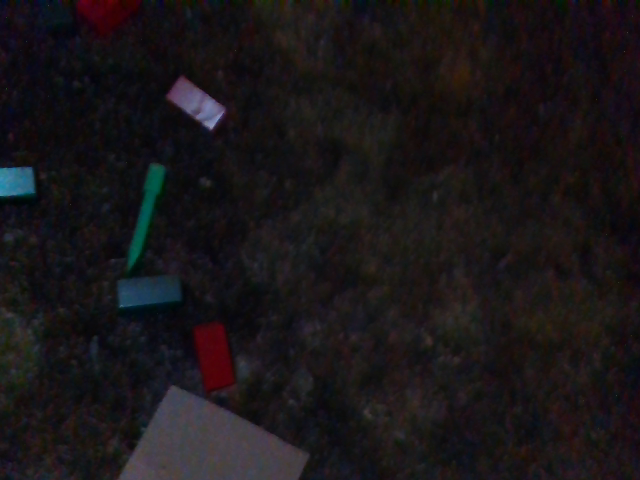Probe: (117, 159, 169, 270)
